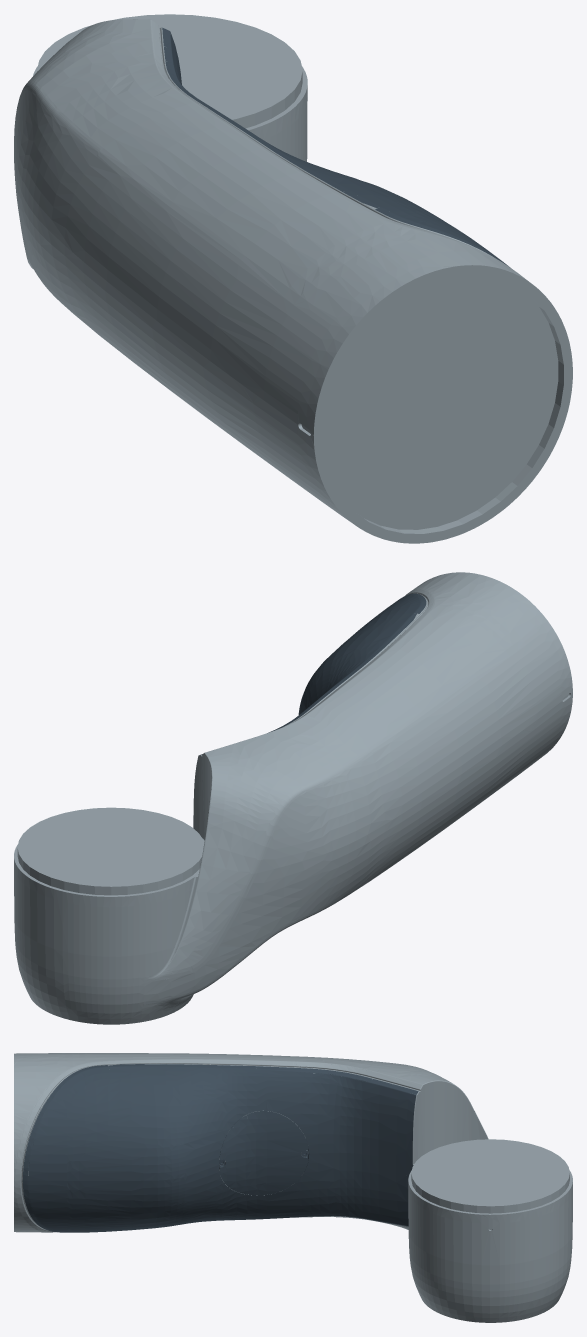
The picture shows the model from 3 angles, top to bottom: view 1: azimuth 30°, elevation 25°; view 2: azimuth 150°, elevation 25°; view 3: azimuth 270°, elevation 25°; orthographic projection. The views are drawn at different scales.
Visible parts, largest first — view 1: link3; view 2: link3; view 3: link3.
Boxes of the visible parts, bbox=[...] form: link3: bbox=[14, 14, 572, 543]; link3: bbox=[14, 572, 572, 1024]; link3: bbox=[14, 1053, 572, 1322].
Size of the model in its own units: 0.1944 by 0.1617 by 0.4194.
